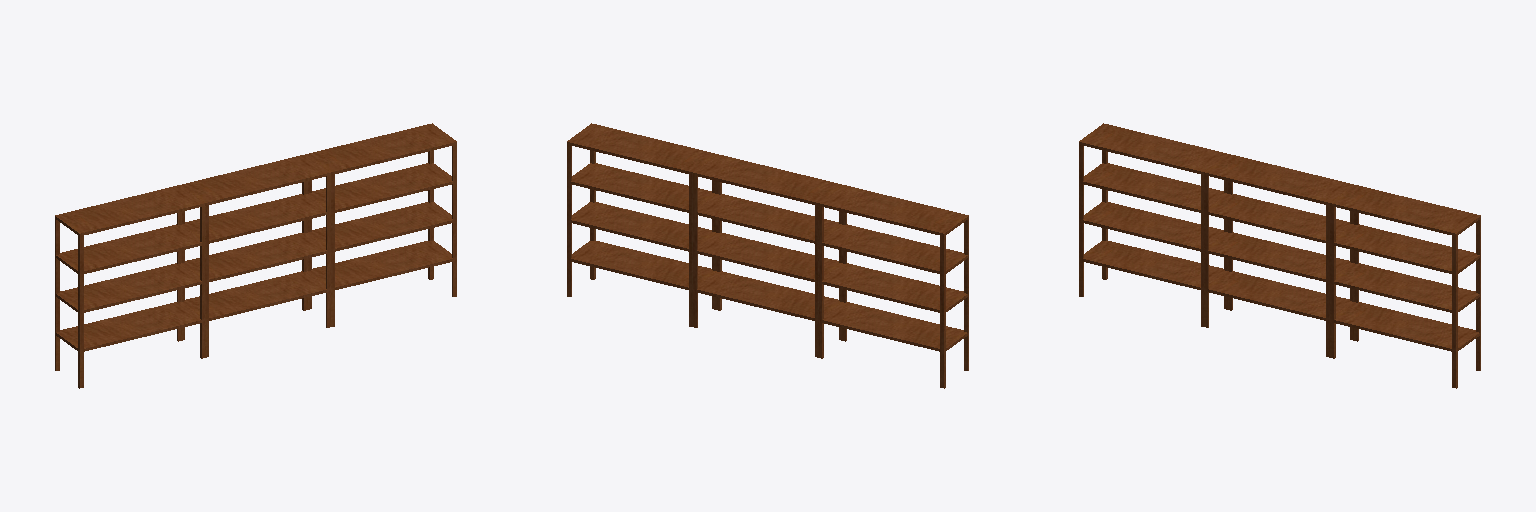
3 renders of one model, left to right at view 1: azimuth 30°, elevation 25°; view 2: azimuth 150°, elevation 25°; view 3: azimuth 330°, elevation 25°, orthographic.
Visible parts, largest first — view 1: group_2, group_0, group_1; view 2: group_2, group_0, group_1; view 3: group_0, group_2, group_1.
Boxes of the visible parts, x1,y1,x2,y2 form: group_2: [55, 185, 205, 388]; group_0: [307, 123, 456, 326]; group_1: [182, 154, 330, 357]; group_2: [818, 185, 968, 388]; group_0: [567, 123, 716, 326]; group_1: [693, 154, 841, 357]; group_0: [1330, 185, 1480, 388]; group_2: [1079, 123, 1227, 326]; group_1: [1204, 154, 1353, 357].
Size of the model in its own units: 2.41 by 0.9462 by 0.2774.
Materials: 1 (1 with a texture image).